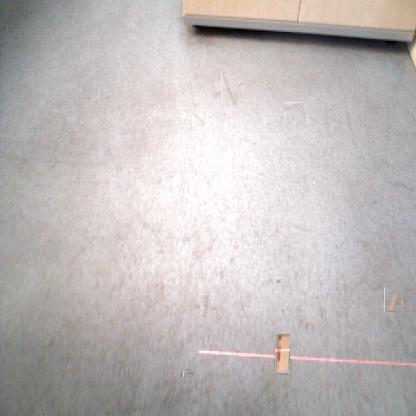dirty: (274, 333, 290, 373), (383, 290, 403, 311)
mark: (218, 77, 242, 102), (197, 298, 214, 316), (192, 112, 205, 126), (284, 102, 302, 111), (307, 114, 318, 124), (185, 370, 193, 379), (274, 277, 281, 285)
